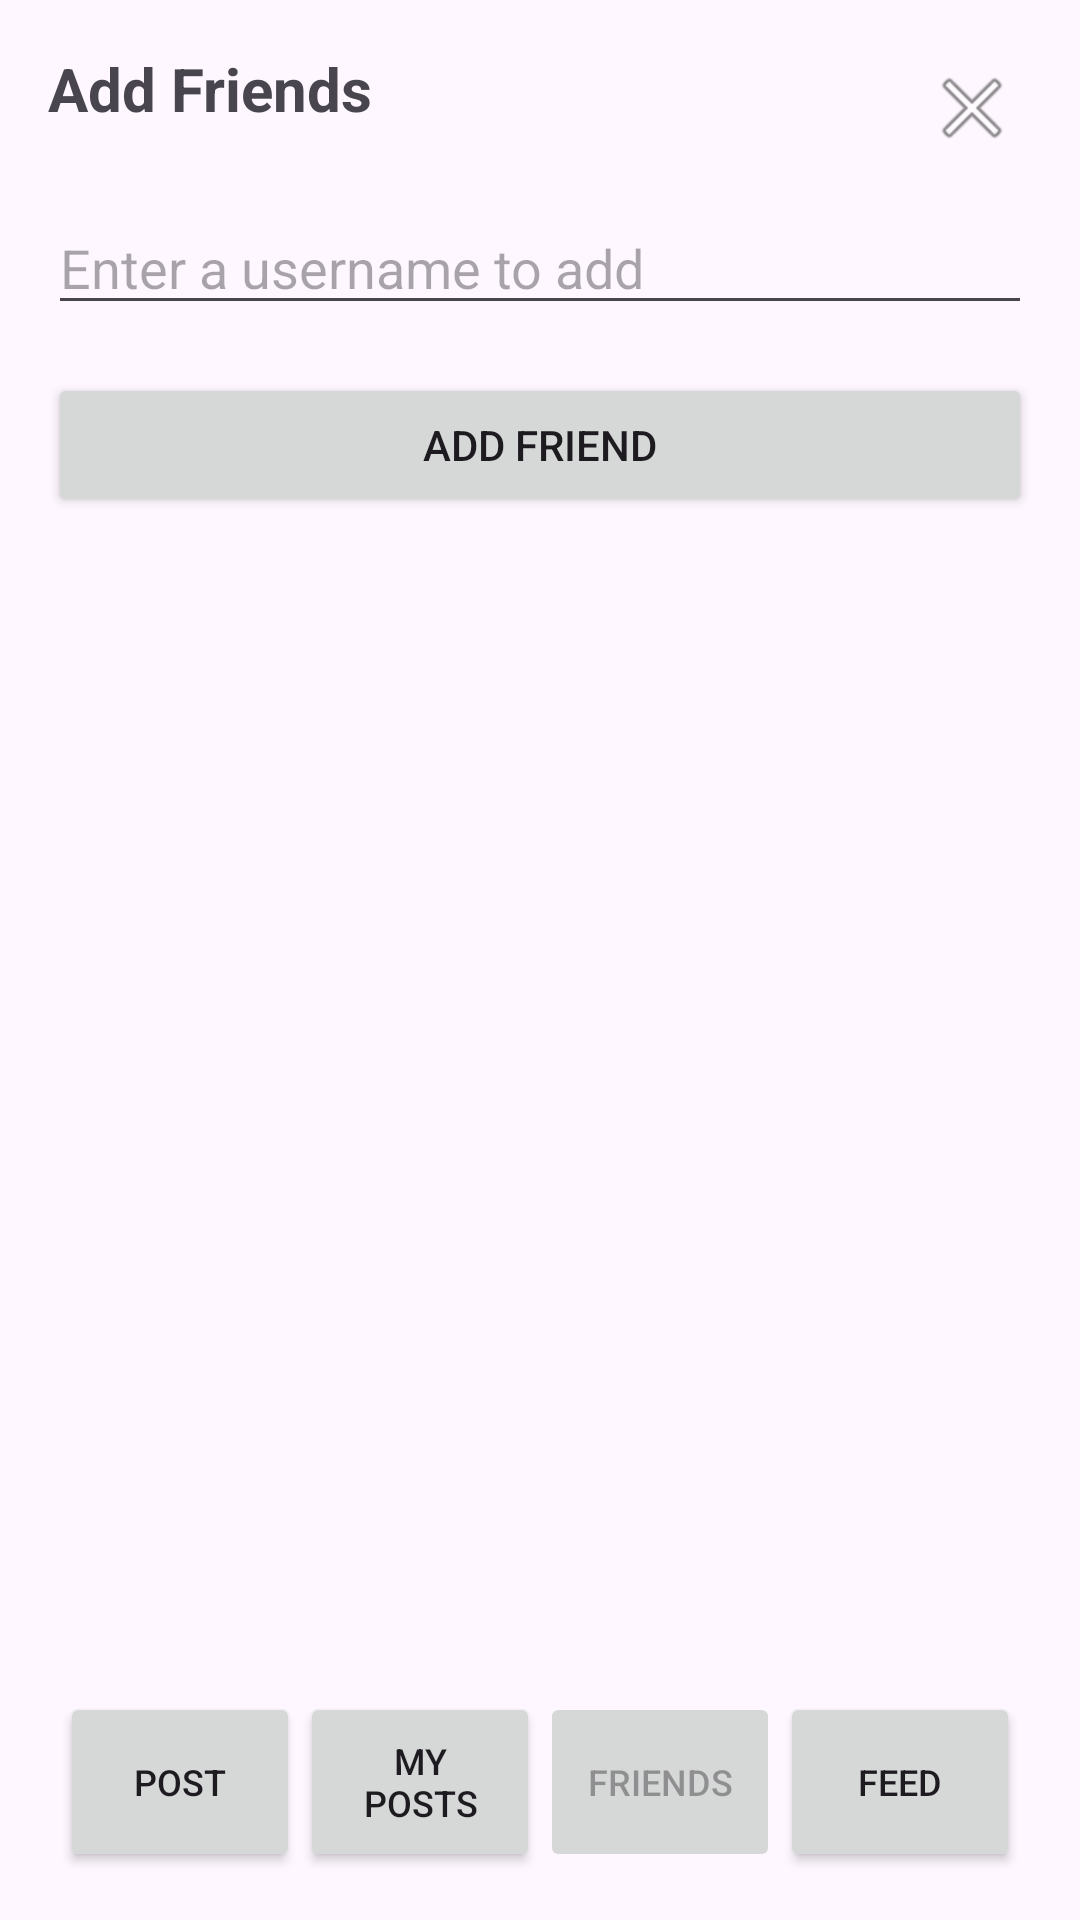

Icons on this 1080px x 1920px Android screen, each with its box as (x1, y1, x2, y2):
Close: (942, 78, 1002, 138)
